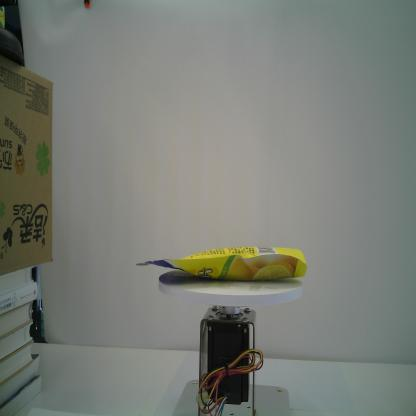Dried Fruit: (135, 245, 308, 282)
